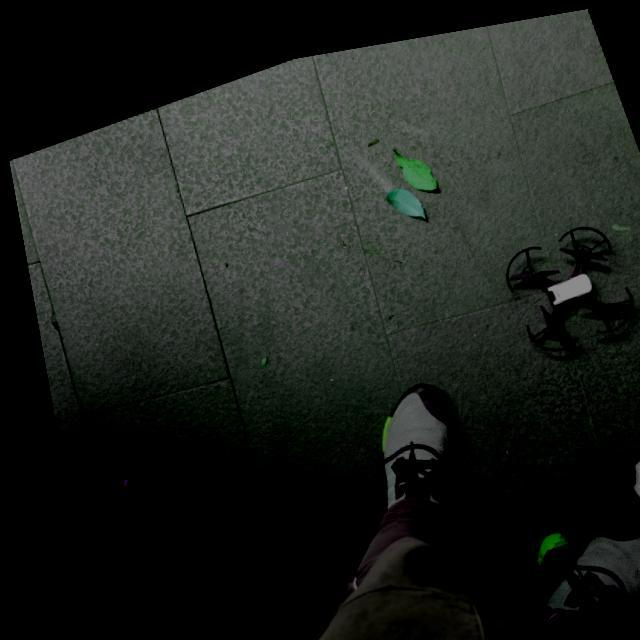drone: (499, 222, 624, 345)
